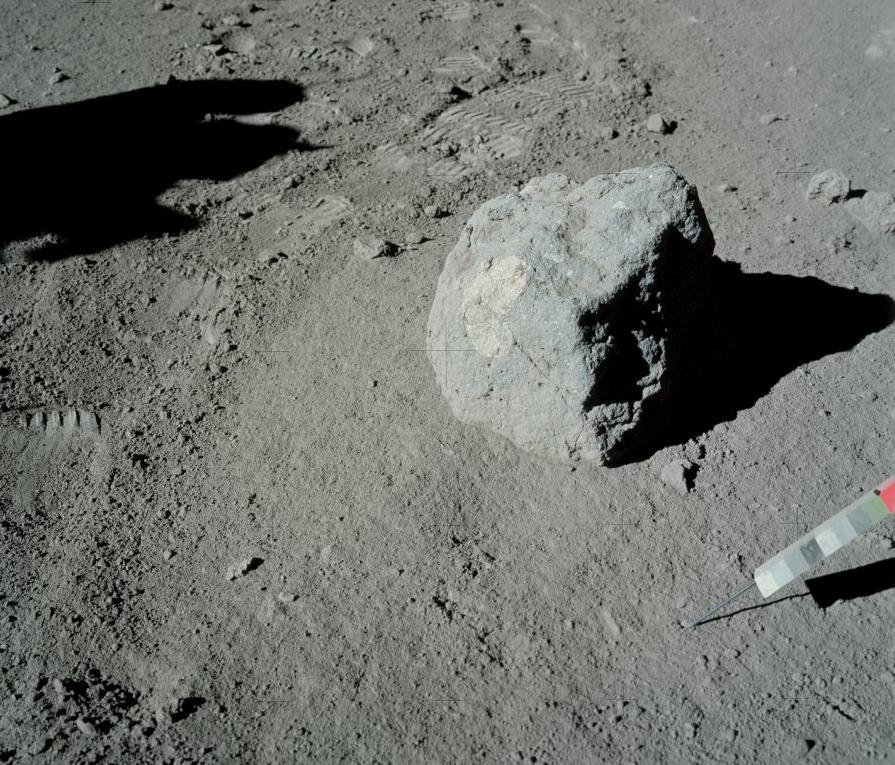rock: (428, 163, 717, 464)
